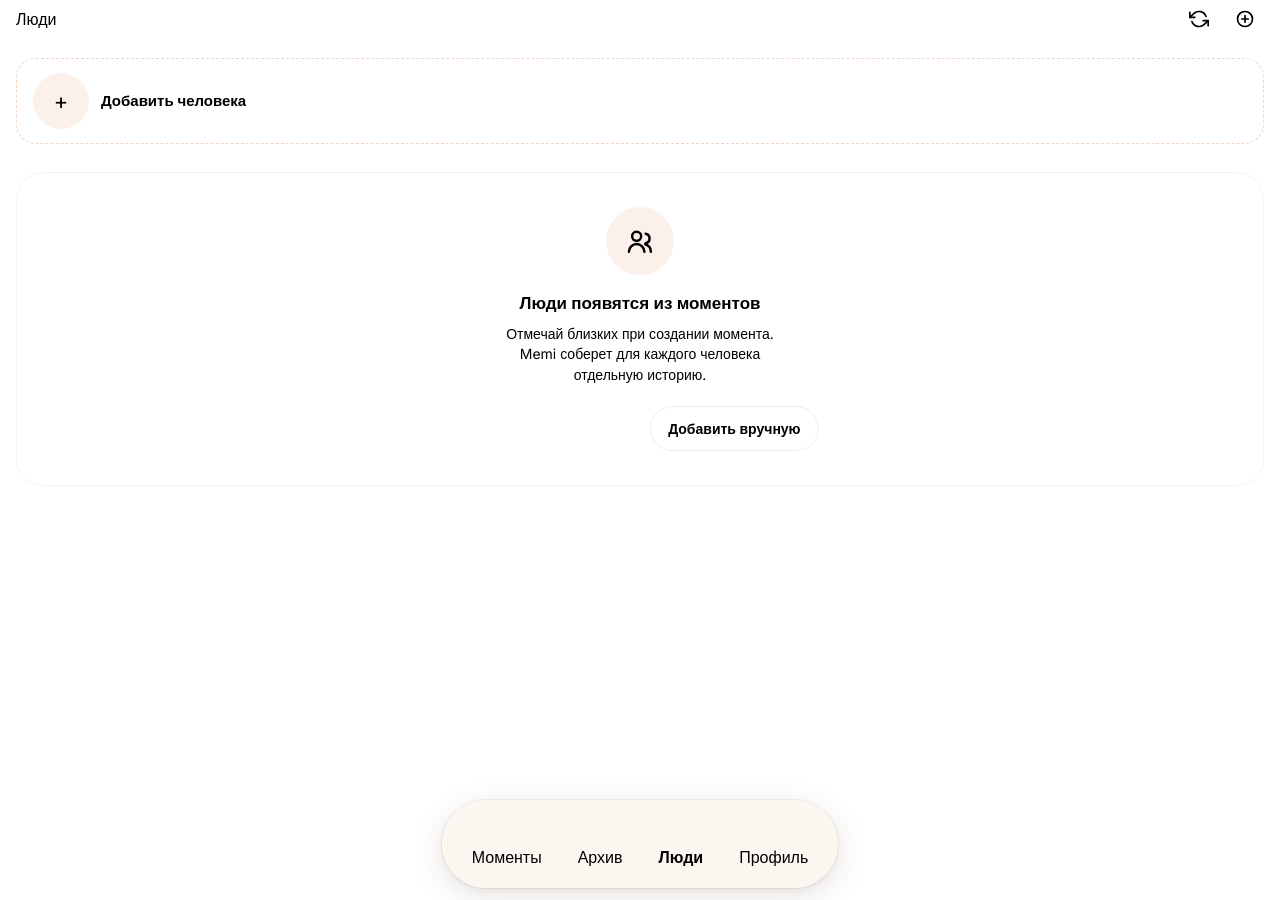
Test case: People › открывает шит добавления по кнопке в хедере
This screenshot has width=1280, height=900.
Step 1. Click the button named "Добавить человека" → x=1245, y=19, box [1226,0,1264,38]
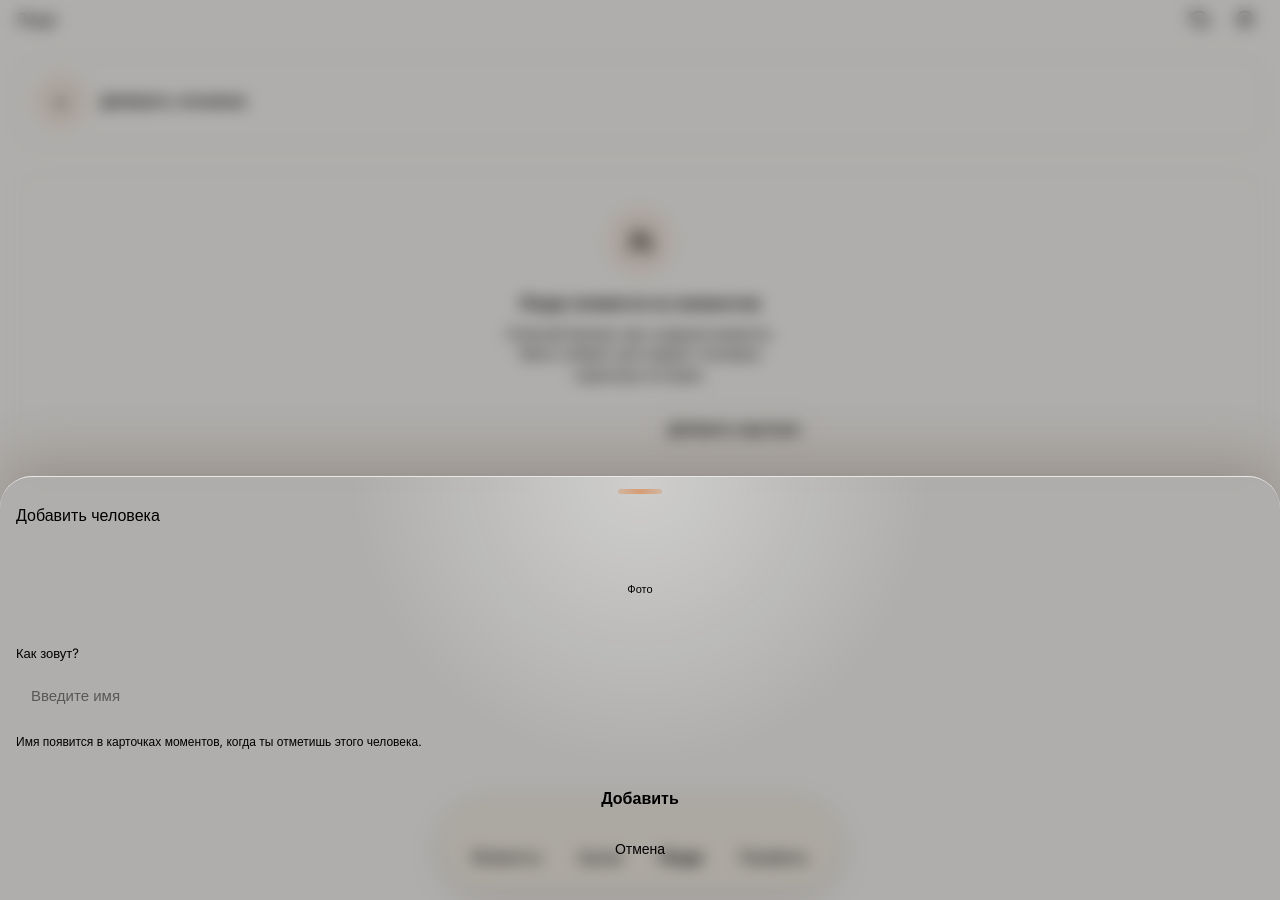
Result: the text "Как зовут?" is shown at [16,645,79,661]
